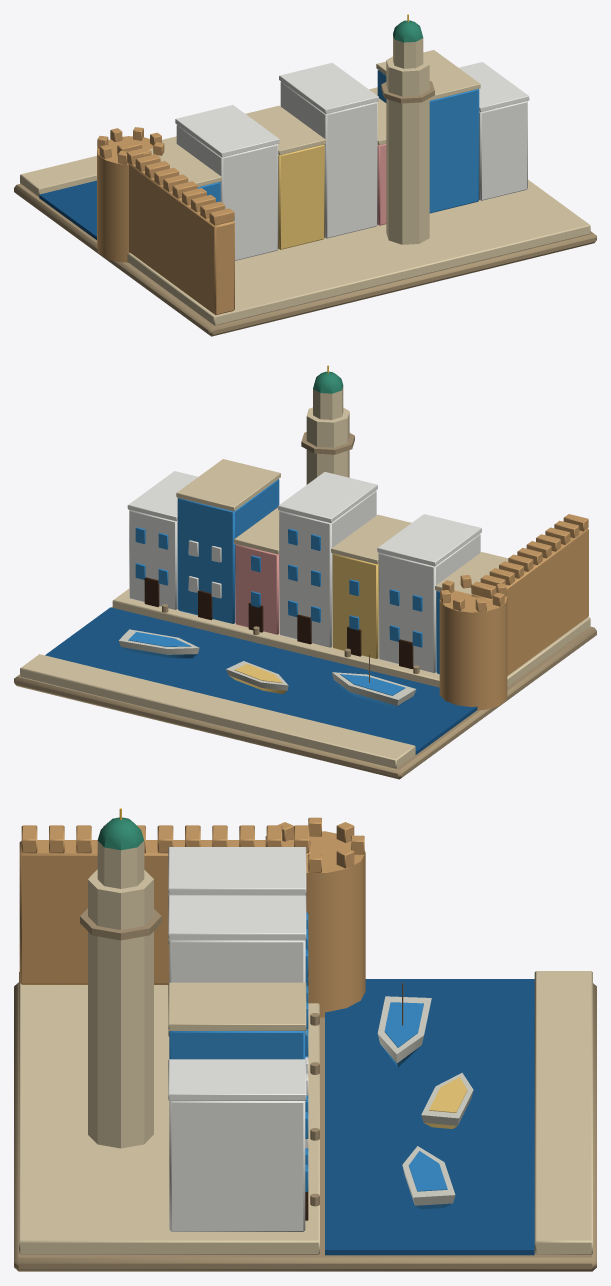
The model's file is Monument_OldPort.fbx.
The picture shows the model from 3 angles, top to bottom: view 1: azimuth 30°, elevation 25°; view 2: azimuth 150°, elevation 25°; view 3: azimuth 270°, elevation 25°; orthographic projection. The views are drawn at different scales.
Visible parts, largest first — view 1: Monument_OldPort; view 2: Monument_OldPort; view 3: Monument_OldPort.
Part boxes in pixels (x1,y1,x2,y2): Monument_OldPort: (14,14,596,336); Monument_OldPort: (14,365,596,779); Monument_OldPort: (14,808,596,1271).
Size of the model in its own units: 3.46 by 2.01 by 3.
